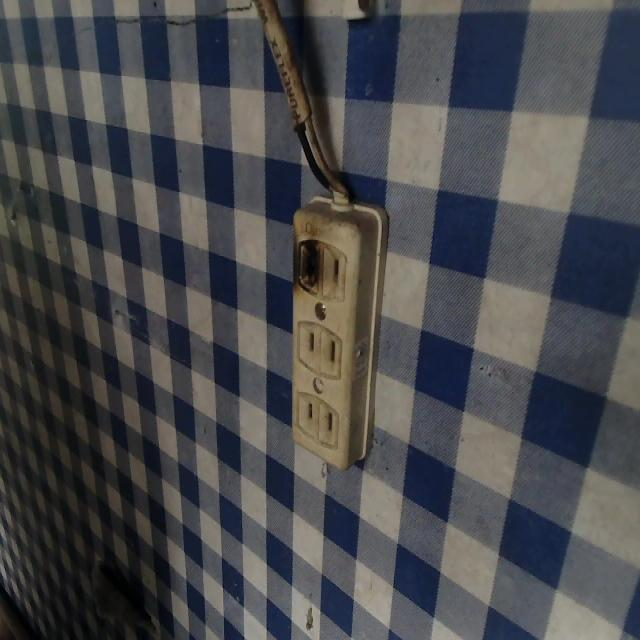-: (290, 233, 323, 296)
